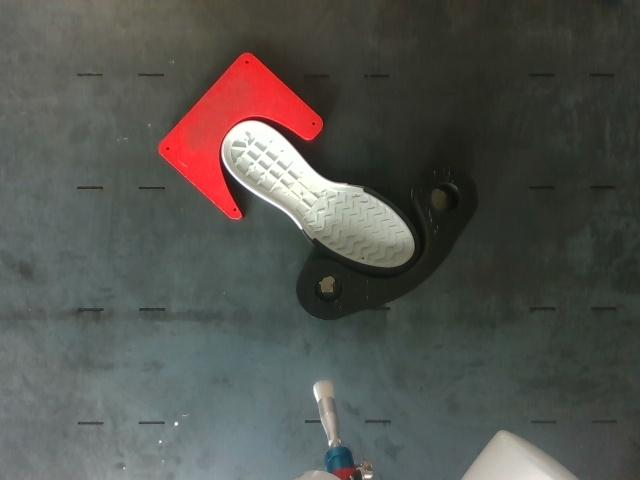shoes: (223, 122, 420, 272)
